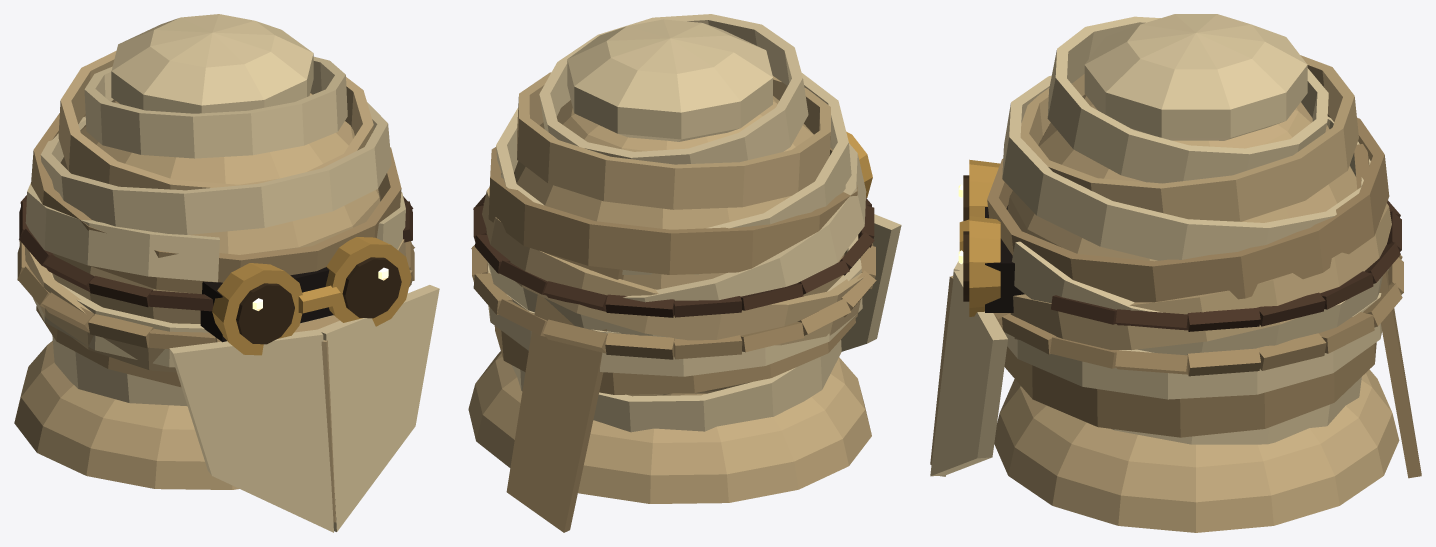
File: raider_wrap.glb
3 renders of one model, left to right at view 1: azimuth 30°, elevation 25°; view 2: azimuth 150°, elevation 25°; view 3: azimuth 270°, elevation 25°, orthographic. The views are drawn at different scales.
Parts seen in each view (by area): view 1: raider_wrap; view 2: raider_wrap; view 3: raider_wrap.
Boxes of the visible parts, bbox=[...] form: raider_wrap: bbox=[14, 14, 439, 532]; raider_wrap: bbox=[468, 14, 901, 532]; raider_wrap: bbox=[930, 14, 1421, 532].
Bounding box in the file's own units: 1.12 × 1.25 × 1.26.
